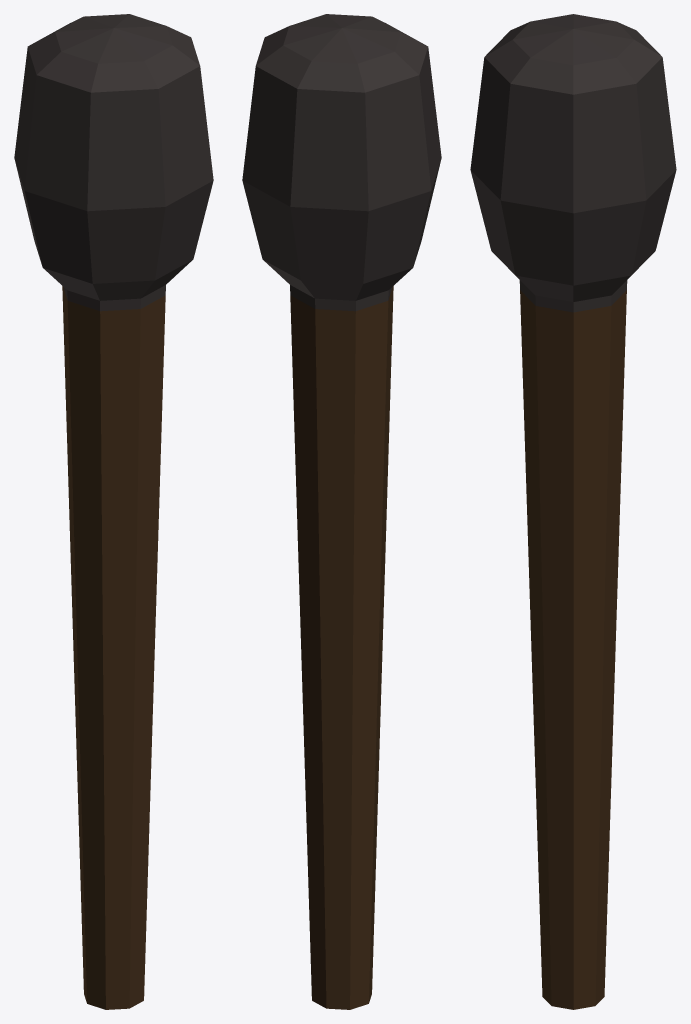
The model's file is Torch.fbx.
The picture shows the model from 3 angles, left to right: view 1: azimuth 30°, elevation 25°; view 2: azimuth 150°, elevation 25°; view 3: azimuth 270°, elevation 25°; orthographic projection.
Visible parts, largest first — view 1: Torch; view 2: Torch; view 3: Torch.
Part boxes in pixels (x1,y1,x2,y2): Torch: (14, 14, 213, 1009); Torch: (242, 14, 441, 1009); Torch: (470, 14, 676, 1009).
Bounding box in the file's own units: 9.69 × 50.19 × 9.69.
